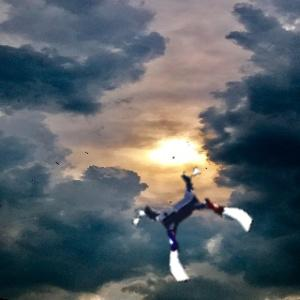drone: (143, 172, 247, 276)
